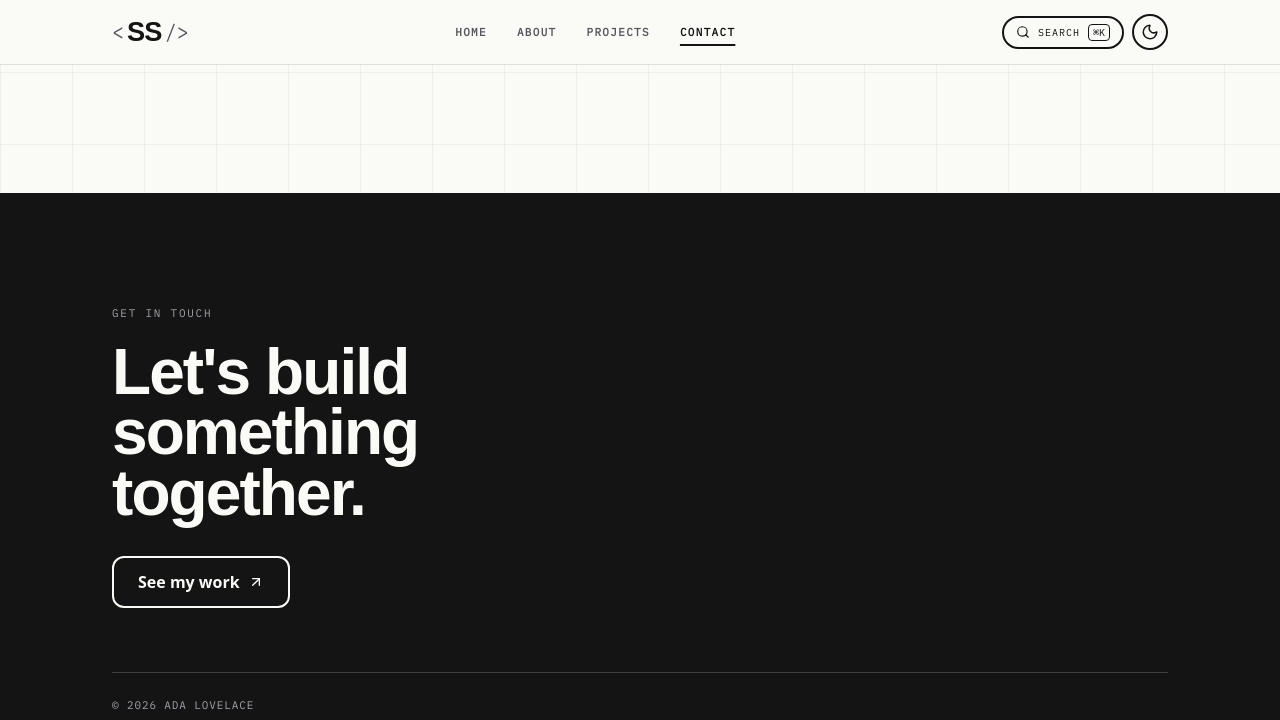
Test: PublicShell scrollspy › keeps Projects lit on /projects and clears stale section highlights
Expected: the navigation bar named "Site navigation" is shown, [455,25,735,39]
Click the link "Projects".
click(618, 32)  # box [586,25,650,39]
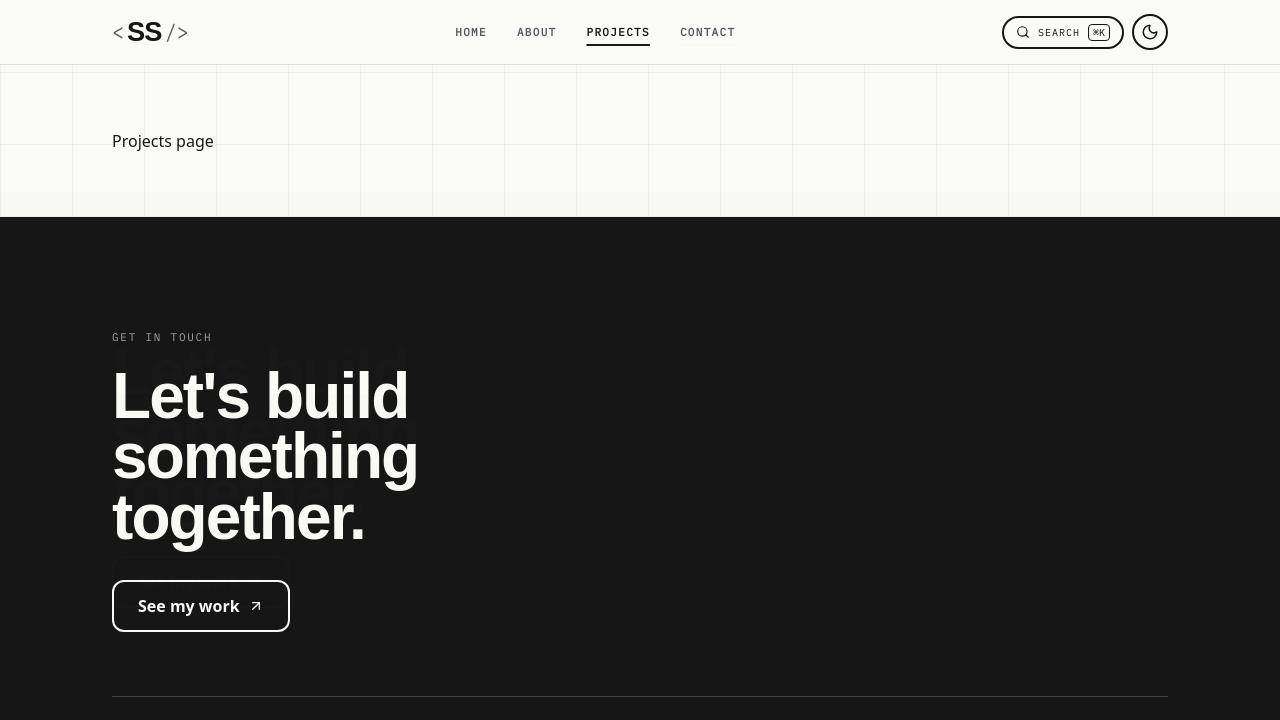
Result: the text "Projects page" is shown at [112,130,214,152]
